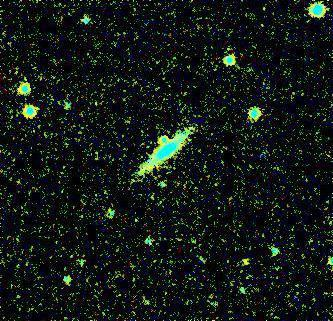star: (228, 249, 258, 279)
